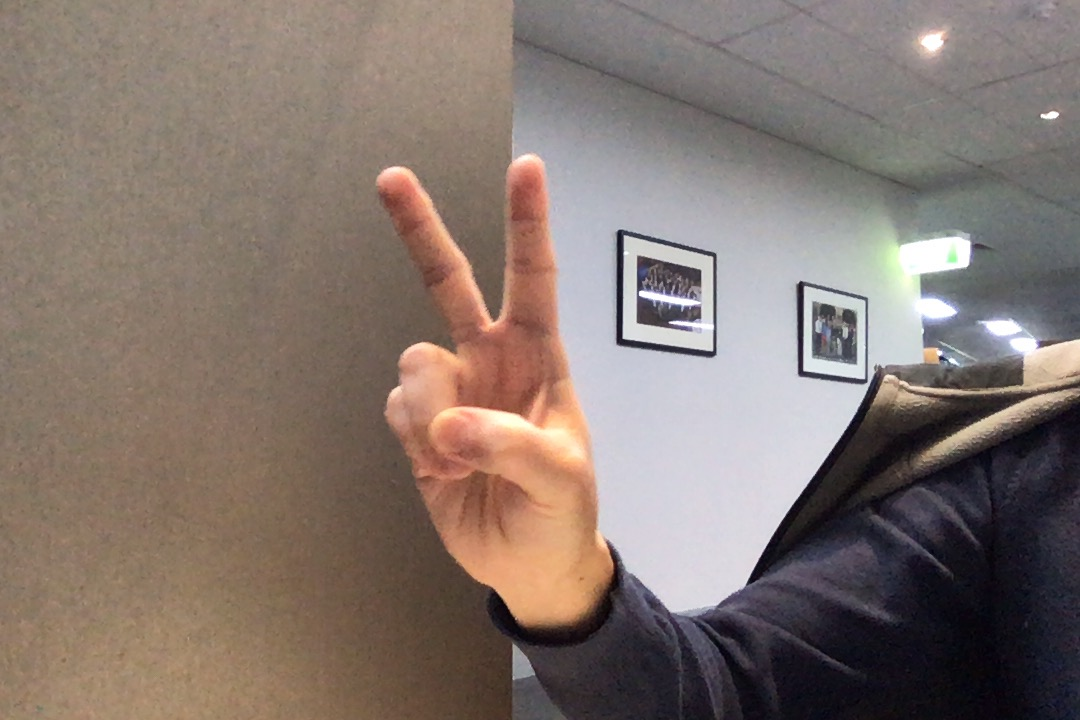peacesign: (358, 147, 618, 598)
